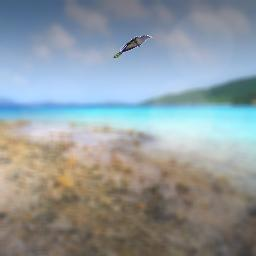Cuckoo: (113, 35, 153, 58)
